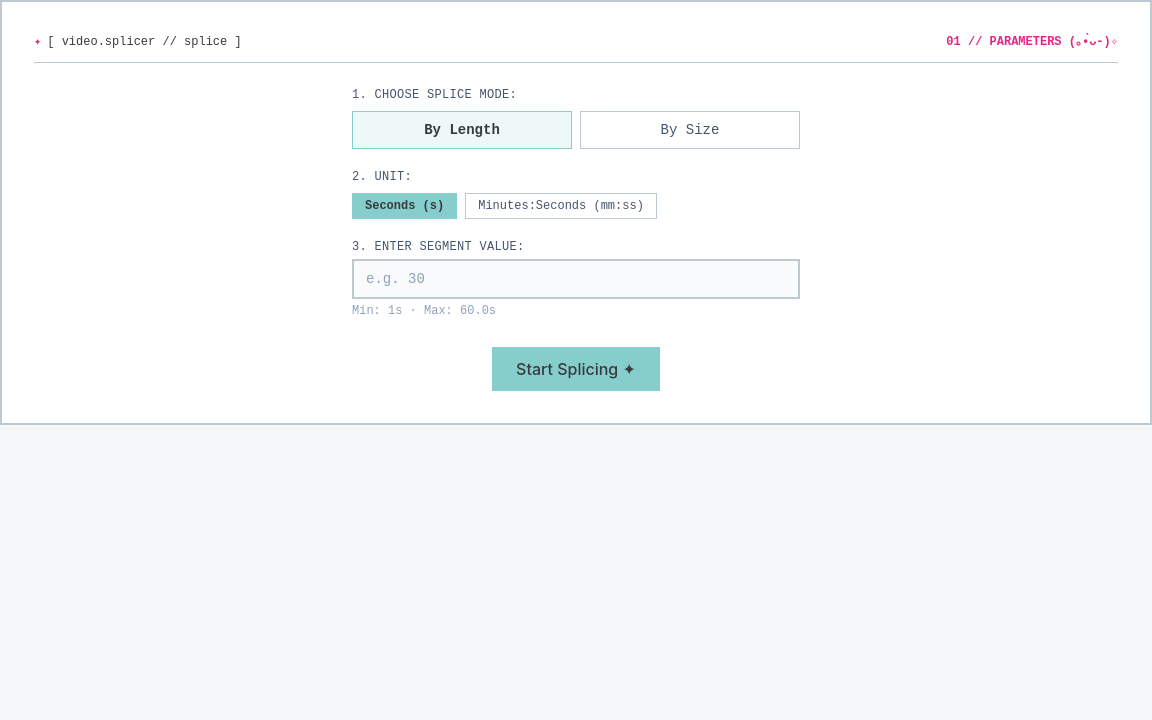
Scenario: SplicePanel › segment downloads › stops and shows an error when a Download all fails
Type "30" into the field with test id "splice-value-input" at (576, 279), box [352, 259, 800, 299]
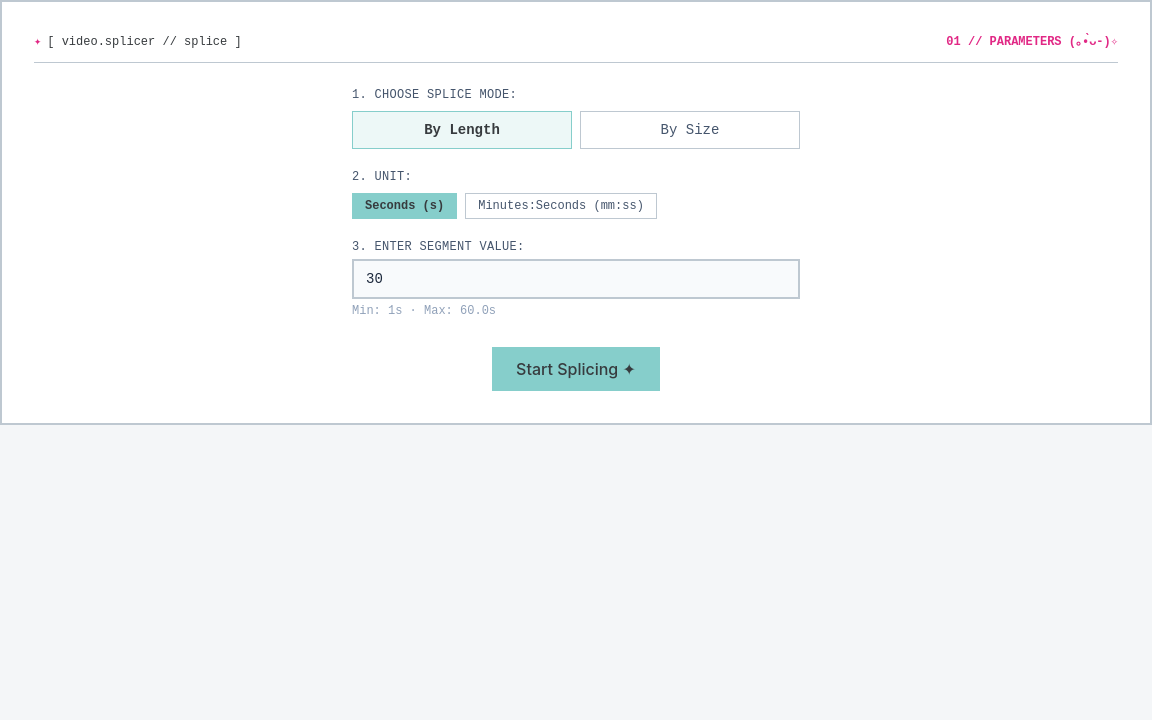
Click the button with test id "start-splice-btn" at (576, 369), box [492, 347, 660, 391]
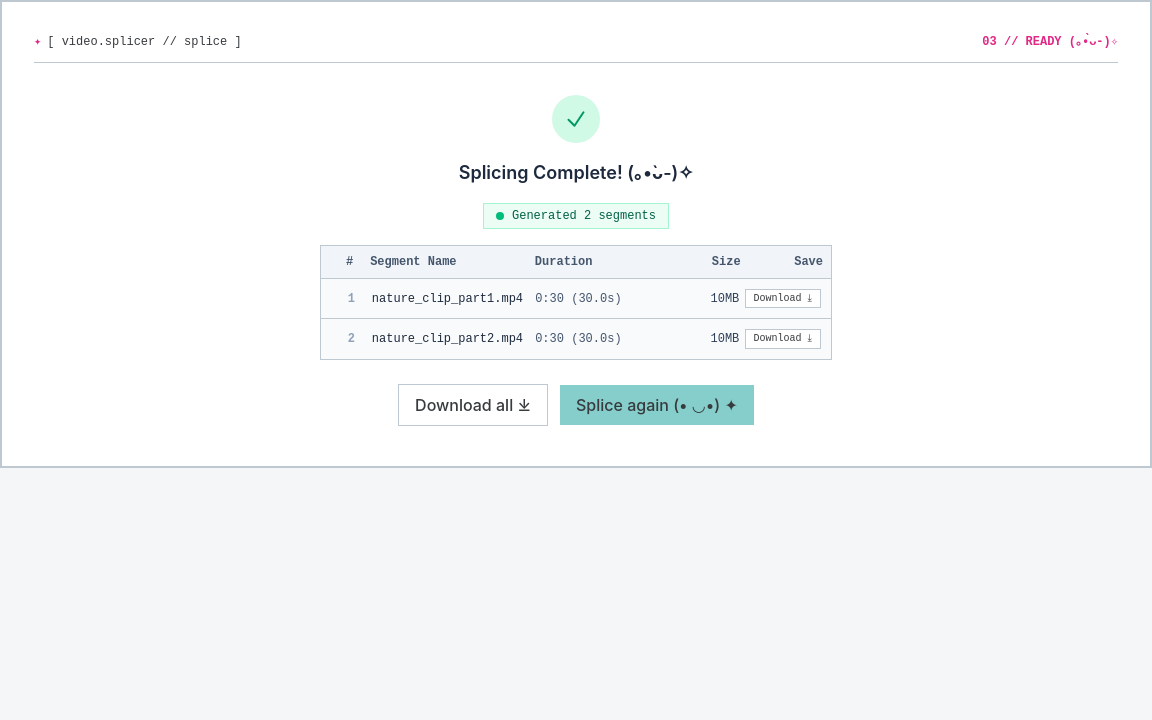
Click the button with test id "download-all-btn" at (473, 405), box [398, 384, 548, 426]
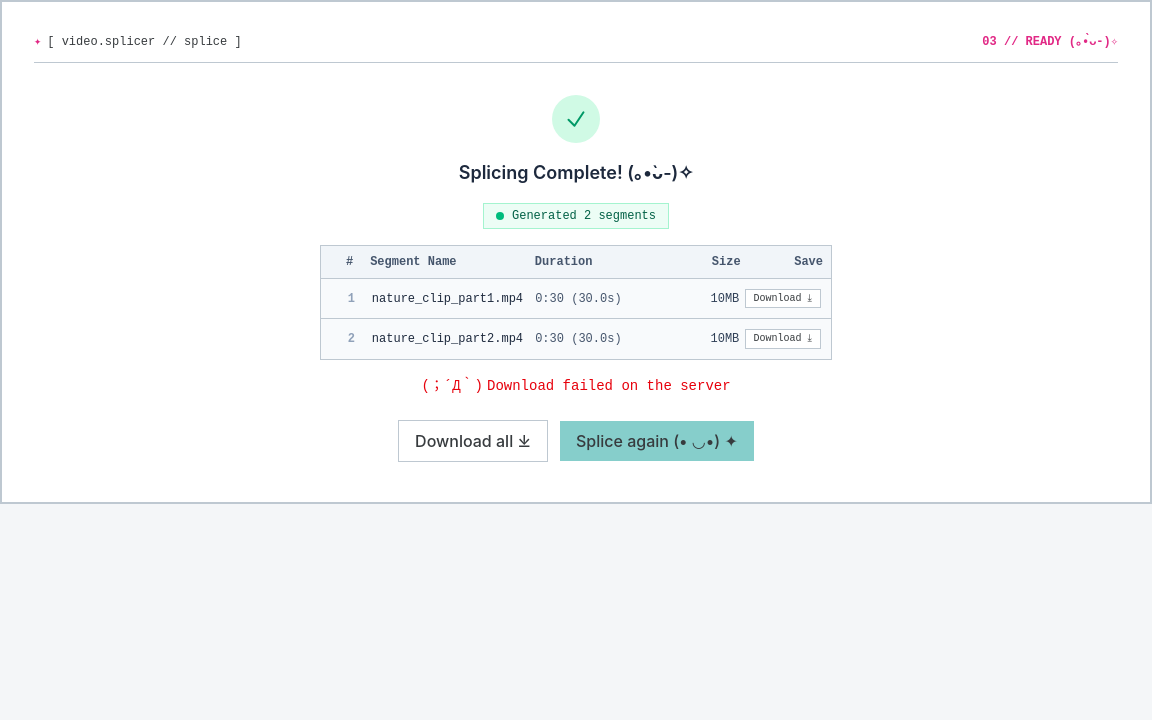
Result: the message with test id "download-error" shows "Download failed on the server" at [487, 378, 731, 394]
